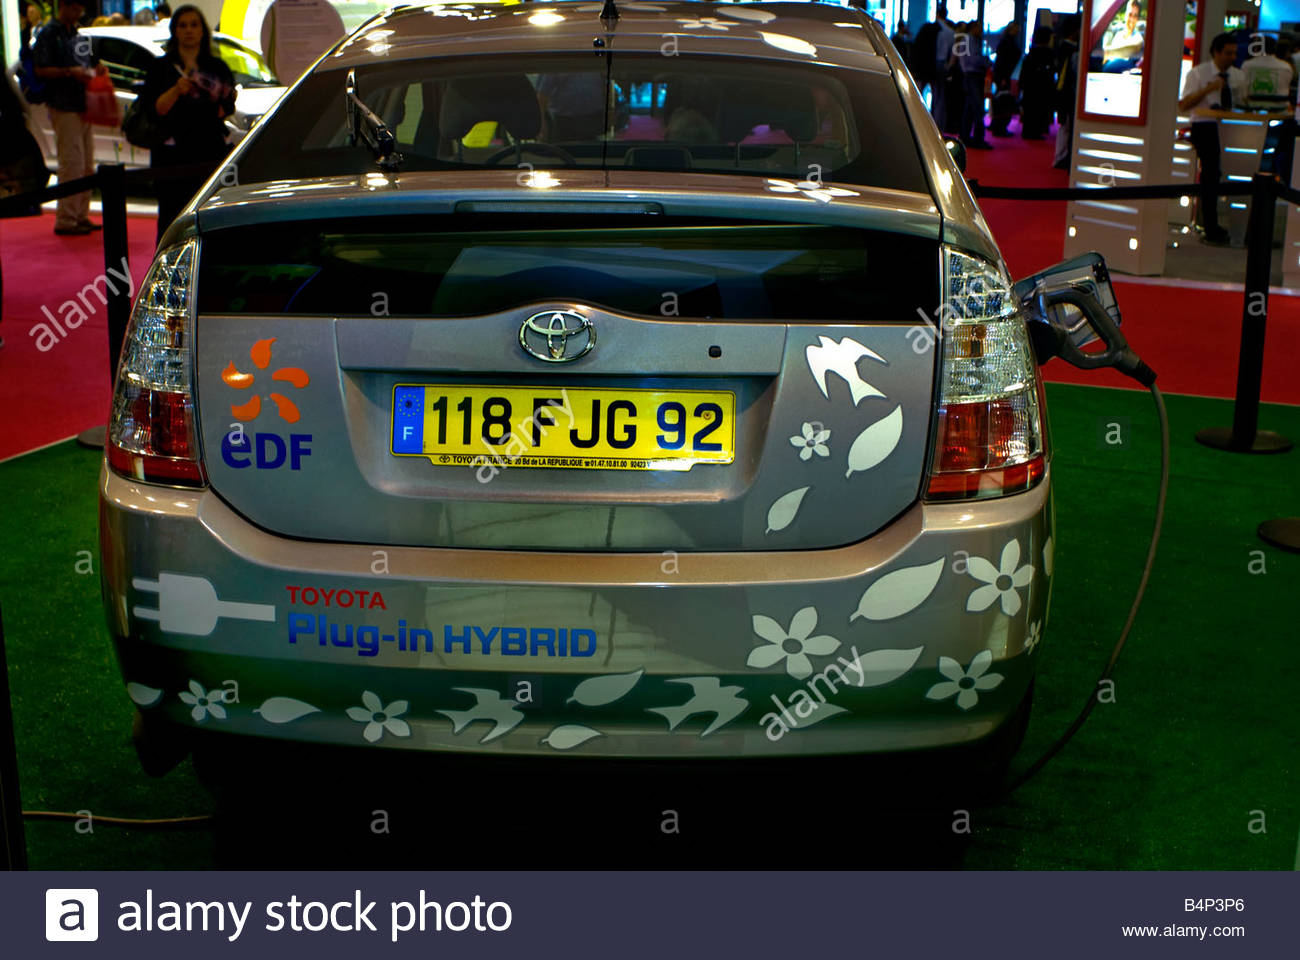license_plate: (391, 384, 736, 462)
